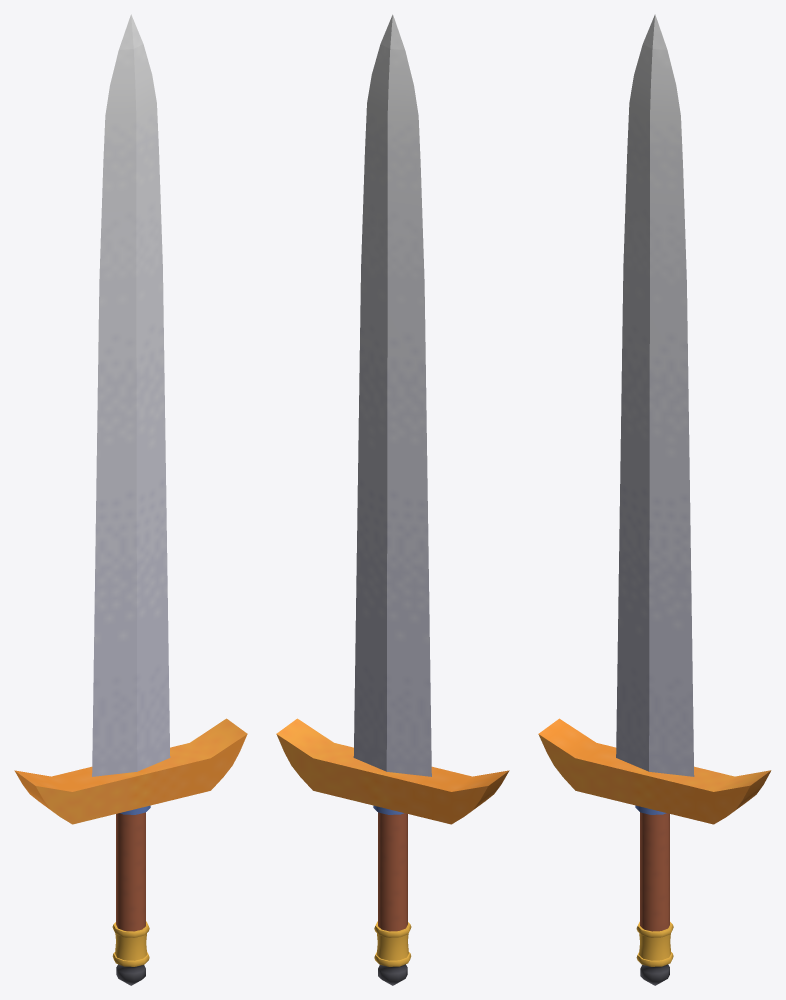
The model's file is Standard Sword.fbx.
The picture shows the model from 3 angles, left to right: view 1: azimuth 30°, elevation 25°; view 2: azimuth 150°, elevation 25°; view 3: azimuth 330°, elevation 25°; orthographic projection.
Visible parts, largest first — view 1: Sword_Standard; view 2: Sword_Standard; view 3: Sword_Standard.
Part boxes in pixels (x1,y1,x2,y2): Sword_Standard: (14, 14, 247, 985); Sword_Standard: (276, 14, 509, 985); Sword_Standard: (538, 14, 771, 985).
Size of the model in its own units: 0.5118 by 2.24 by 0.088.
